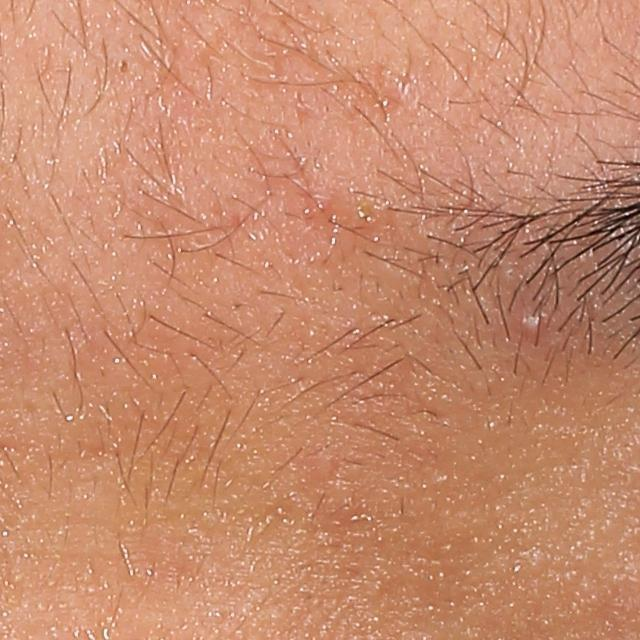pustule: (518, 310, 548, 346)
